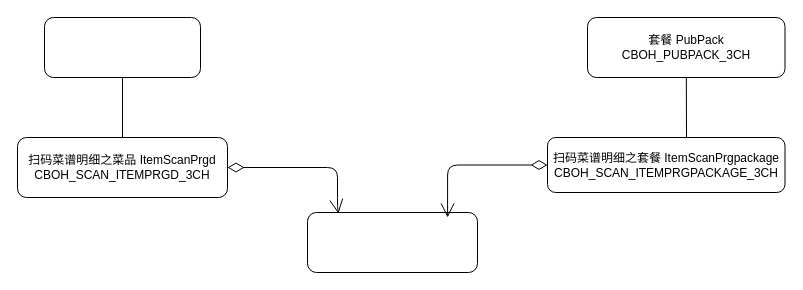
Some shapes in this 803 by 290 pixel diagram are drawn without their labels. The shapes that lost their labels are listed below. From the top down, each one's box as (x1, y1, x2, y2) in pixels, then its label:
(44, 16, 200, 78): 菜品 Pubitem CBOH_PUBITEM_3CH
(306, 212, 478, 272): 门店扫码菜谱 （虚实体，没有表）
